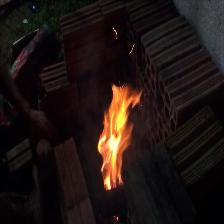fire: (92, 84, 140, 192)
